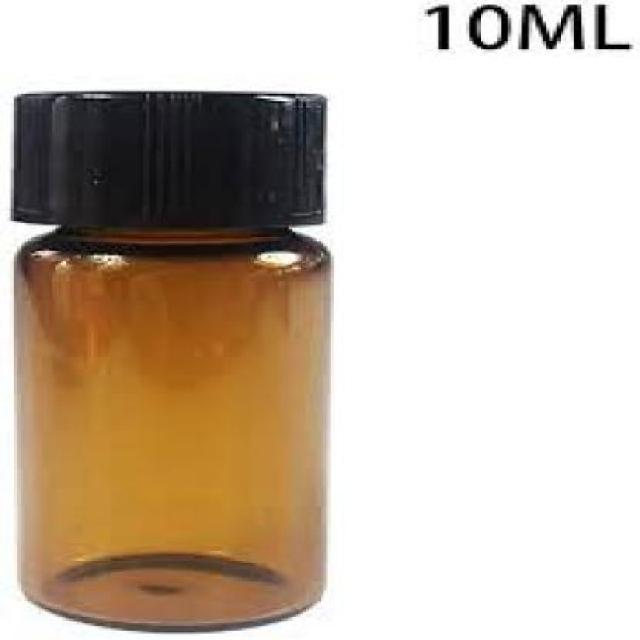kaca: (11, 224, 331, 630)
